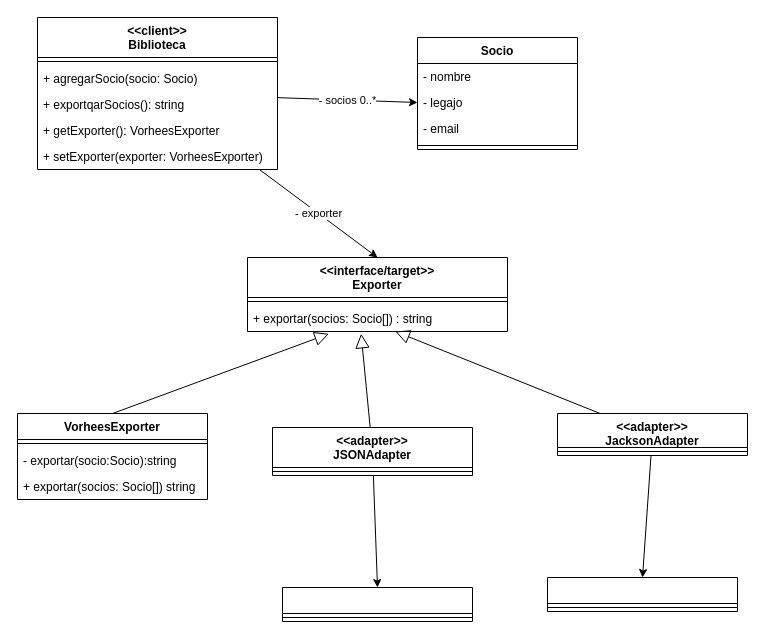
The diagram is 765 pixels wide and 639 high, and some of its shapes have lost their labels. Here are the shapes that lost their labels. From the top down, the centre of each, then its label:
(377,604): JSON.simple
(642,594): Jackson
